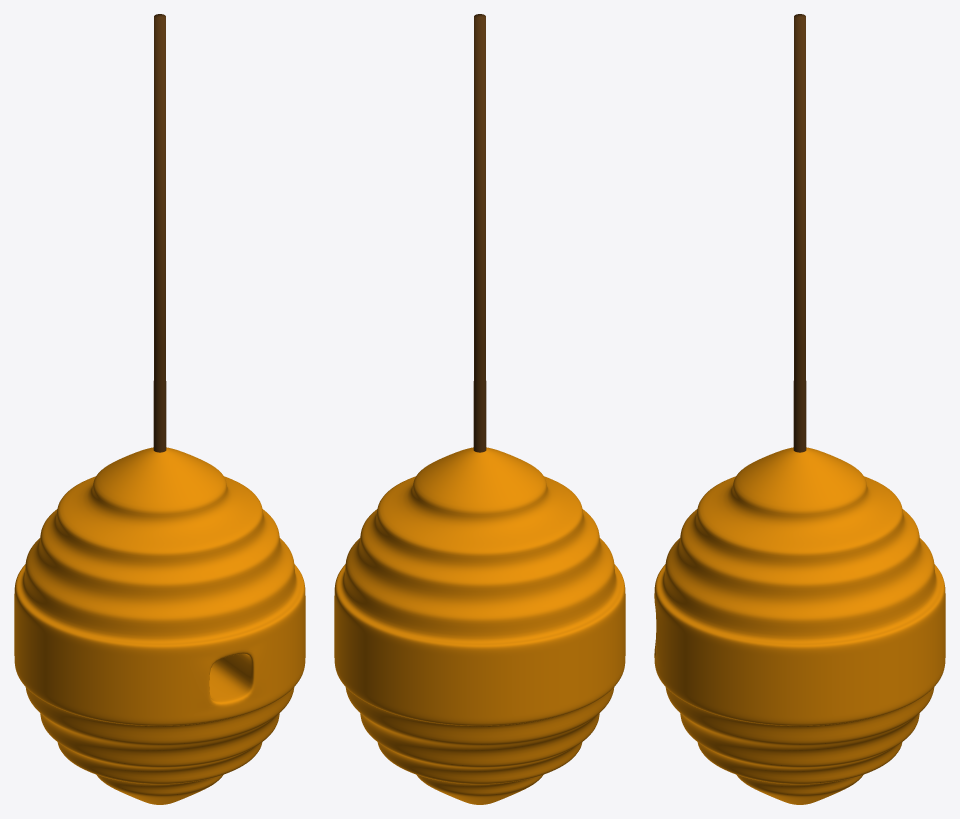
Rendered from _0_abeja_panal.fbx.
3 renders of one model, left to right at view 1: azimuth 30°, elevation 25°; view 2: azimuth 150°, elevation 25°; view 3: azimuth 270°, elevation 25°, orthographic.
Visible parts, largest first — view 1: Cylinder, Cylinder.001; view 2: Cylinder, Cylinder.001; view 3: Cylinder, Cylinder.001.
Part boxes in pixels (x1,y1,x2,y2): Cylinder: [14, 447, 305, 804]; Cylinder.001: [153, 14, 166, 452]; Cylinder: [334, 447, 625, 804]; Cylinder.001: [473, 14, 486, 452]; Cylinder: [654, 447, 945, 804]; Cylinder.001: [793, 14, 806, 452].
Size of the model in its own units: 248 by 738 by 248.
